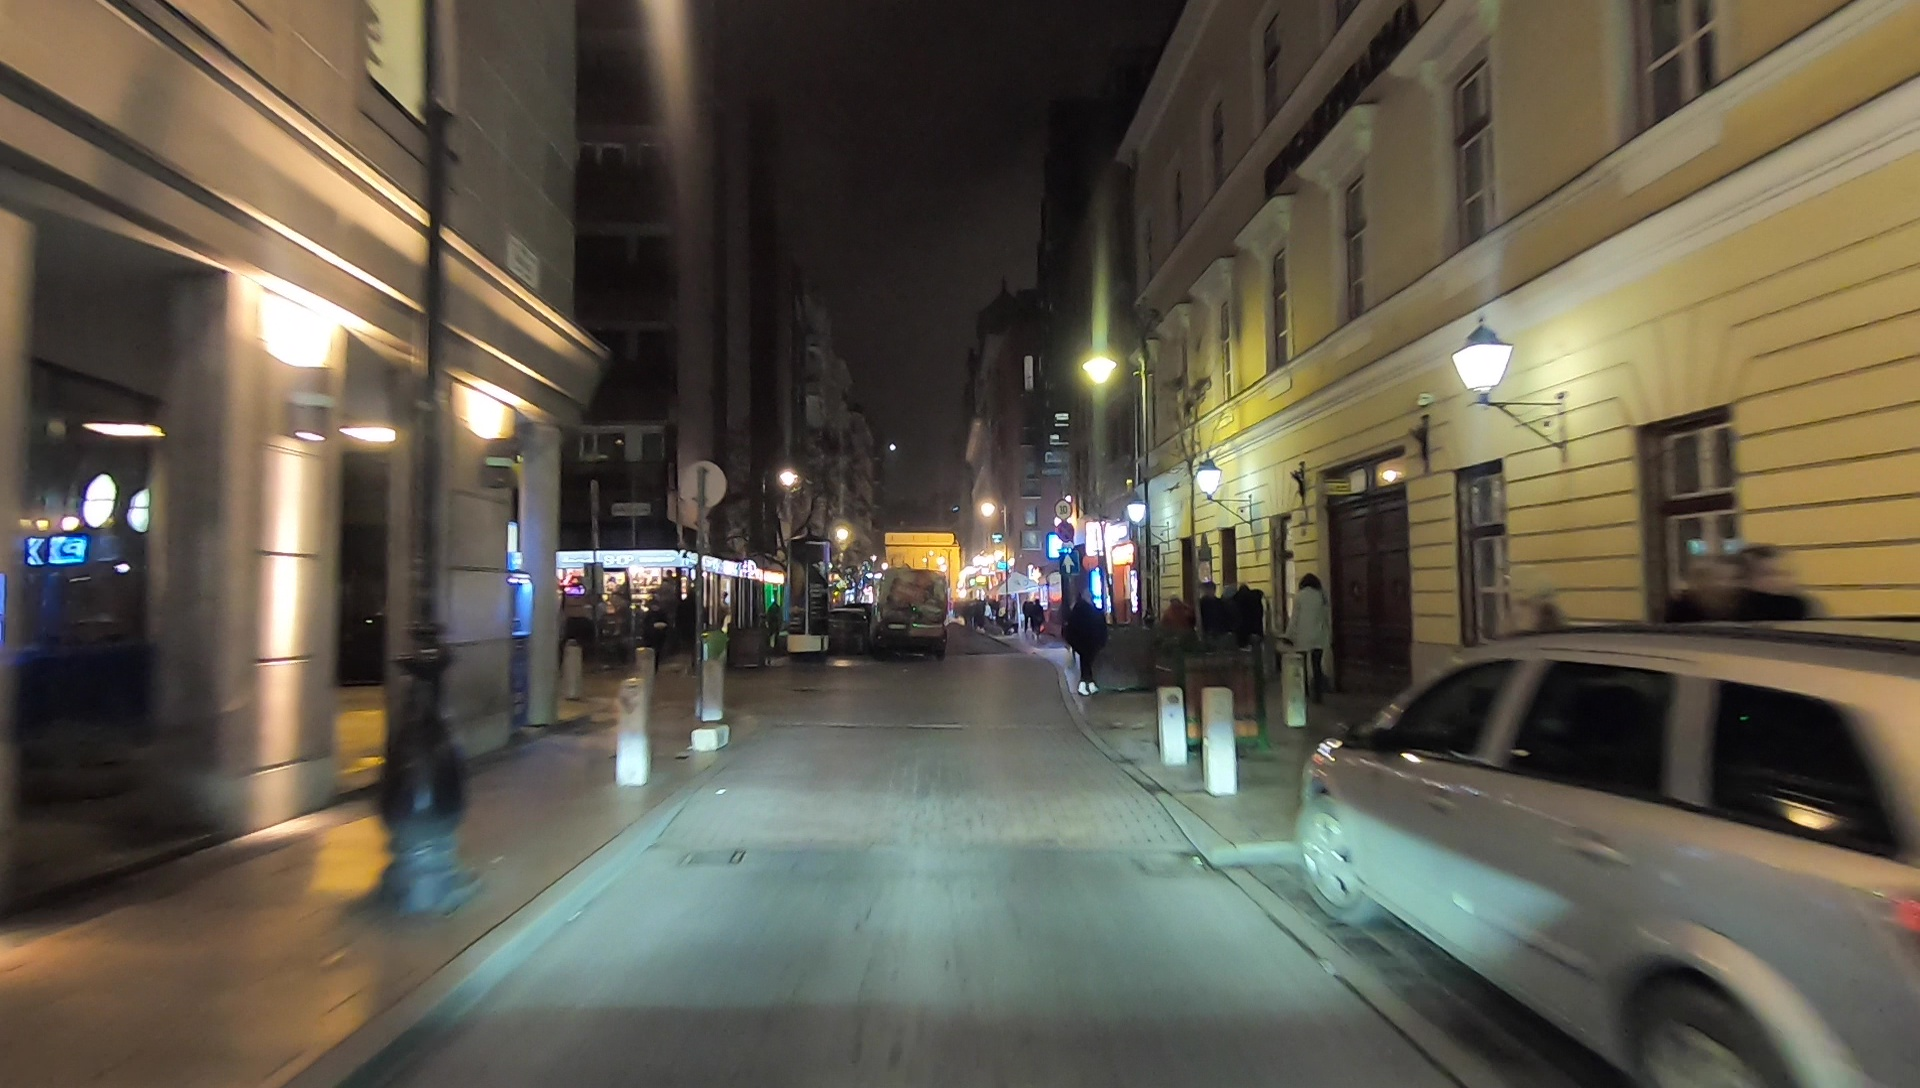person: (1289, 576, 1334, 695), (1223, 579, 1269, 681), (1066, 589, 1109, 696), (1165, 594, 1198, 672), (1200, 582, 1225, 680)
